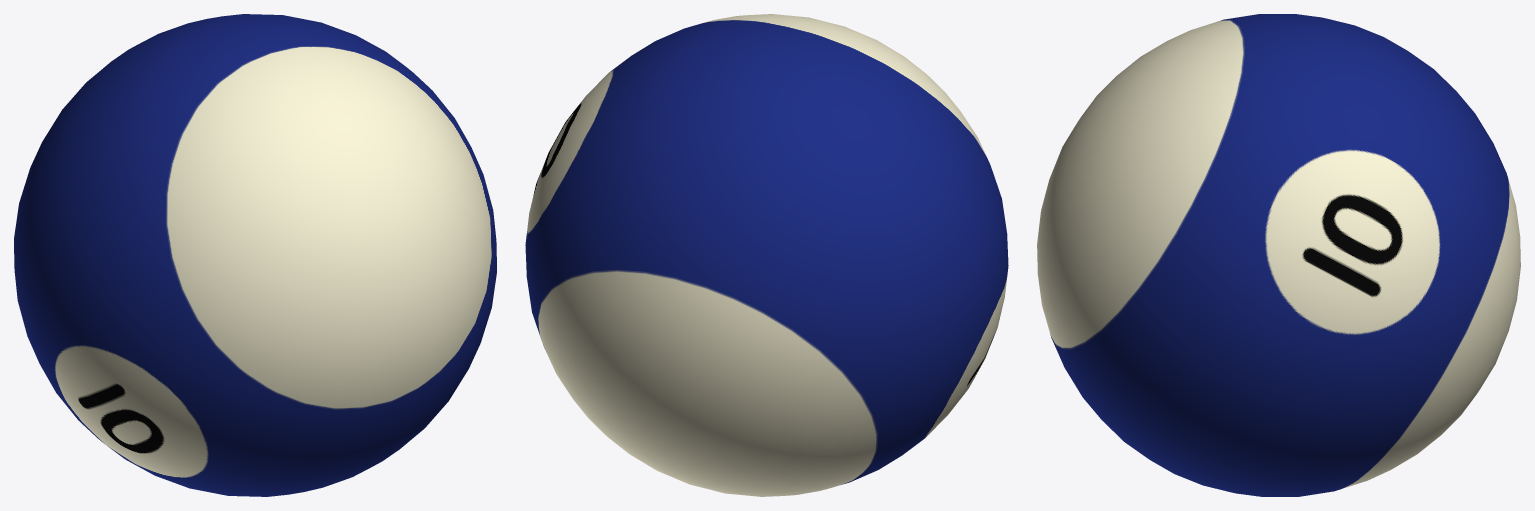
Rendered from bola4.obj.
3 views of the same model, side by side, from view 1: azimuth 30°, elevation 25°; view 2: azimuth 150°, elevation 25°; view 3: azimuth 270°, elevation 25° (orthographic).
Parts seen in each view (by area): view 1: 10_Ball; view 2: 10_Ball; view 3: 10_Ball.
Part boxes in pixels (<box>): 10_Ball: <box>14,14,496,496</box>; 10_Ball: <box>525,14,1008,496</box>; 10_Ball: <box>1037,14,1520,496</box>.
Bounding box in the file's own units: 0.0509 × 0.0508 × 0.0509.
1 material, 1 textured.
